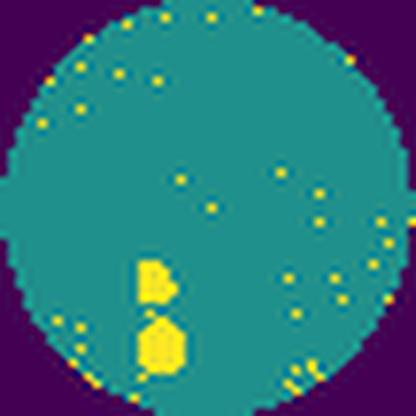Loc: (135, 312, 188, 382), (133, 256, 180, 307)
